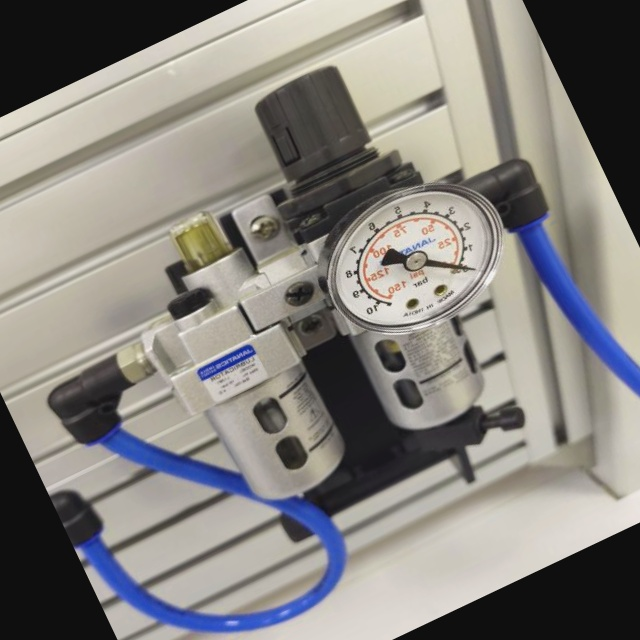FRL unit: (0, 0, 640, 622)
push button: (298, 150, 532, 362)
